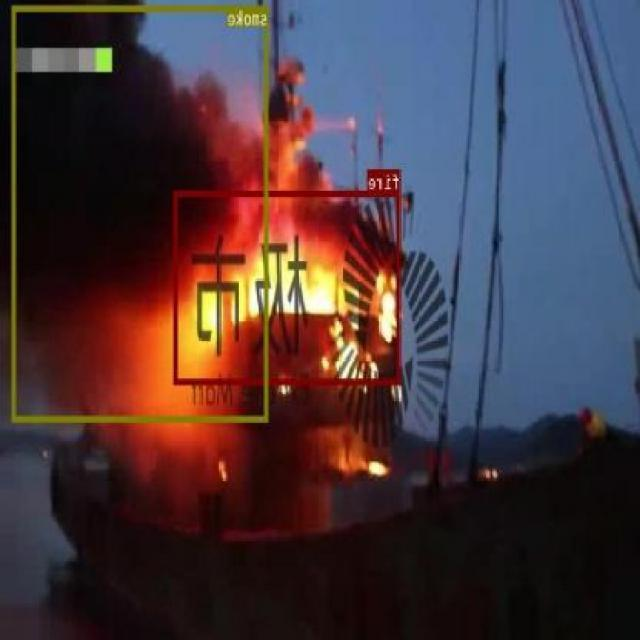Fire: (174, 190, 400, 384)
Smoke: (12, 4, 270, 421)
